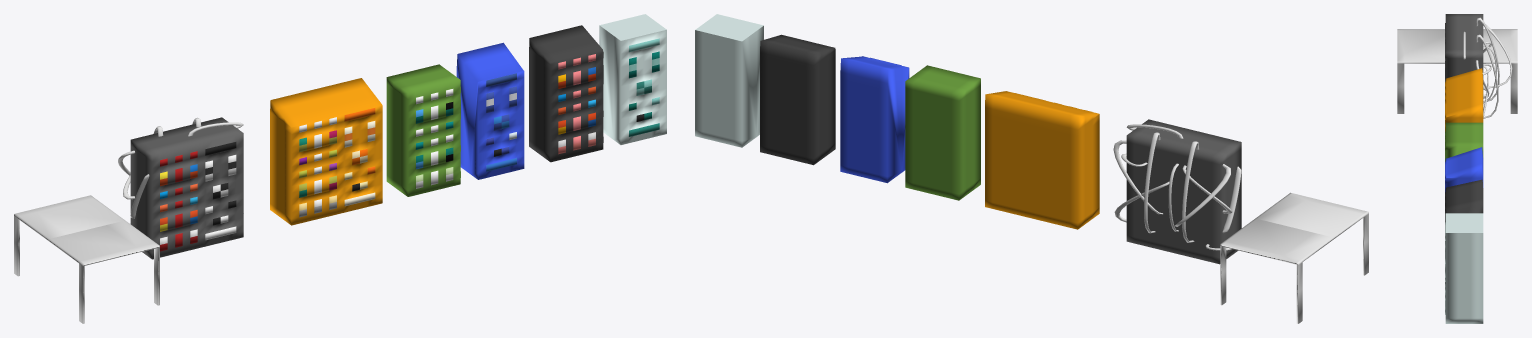
File: machines.fbx
3 views of the same model, side by side, from view 1: azimuth 30°, elevation 25°; view 2: azimuth 150°, elevation 25°; view 3: azimuth 270°, elevation 25° (orthographic). The views are drawn at different scales.
Parts seen in each view (by area): view 1: machine.001, machine, machine.005, machine.003, machine.002, machine.004, Cube.001; view 2: machine.001, machine, machine.003, machine.005, machine.004, machine.002, Cube.001, Obj_TT_tube.005, Obj_TT_tube.002; view 3: machine.004, Cube.001, machine, machine.001, machine.002, machine.003, machine.005, Obj_TT_tube.005, Obj_TT_tube.002, Obj_TT_tube.007, Obj_TT_tube.011, Obj_TT_tube.008.
Part boxes in pixels (x1,y1,x2,y2): machine.001: [270, 78, 382, 225]; machine: [130, 117, 243, 259]; machine.005: [529, 25, 603, 162]; machine.003: [386, 64, 460, 196]; machine.002: [456, 42, 524, 179]; machine.004: [599, 14, 666, 144]; Cube.001: [14, 195, 159, 323]; machine.001: [985, 91, 1099, 229]; machine: [1126, 119, 1241, 264]; machine.003: [905, 65, 980, 200]; machine.005: [760, 34, 835, 165]; machine.004: [695, 14, 763, 147]; machine.002: [840, 56, 909, 183]; Cube.001: [1220, 192, 1368, 323]; Obj_TT_tube.005: [1144, 132, 1160, 233]; Obj_TT_tube.002: [1182, 141, 1198, 242]; machine.004: [1445, 213, 1483, 323]; Cube.001: [1397, 29, 1517, 113]; machine: [1445, 14, 1483, 81]; machine.001: [1445, 68, 1483, 131]; machine.002: [1445, 147, 1483, 192]; machine.003: [1445, 122, 1483, 161]; machine.005: [1445, 179, 1483, 283]; Obj_TT_tube.005: [1475, 34, 1498, 118]; Obj_TT_tube.002: [1476, 17, 1499, 101]; Obj_TT_tube.007: [1483, 24, 1512, 88]; Obj_TT_tube.011: [1483, 45, 1496, 103]; Obj_TT_tube.008: [1483, 65, 1488, 118].
Bounding box in the file's own units: 5789 × 1201 × 1131.
Materials: 1 (1 with a texture image).
